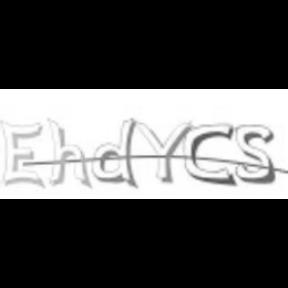C: (183, 119, 237, 187)
E: (0, 118, 46, 188)
S: (234, 123, 280, 183)
Y: (135, 118, 193, 184)
d: (91, 113, 140, 189)
h: (46, 115, 94, 190)
